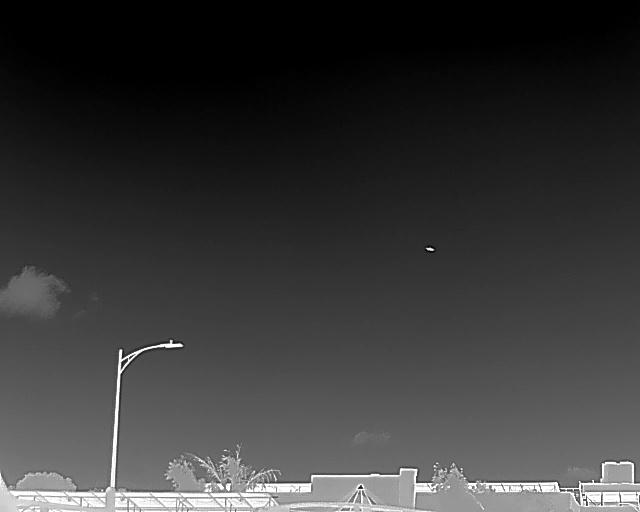fpv-drone: (424, 246, 435, 251)
